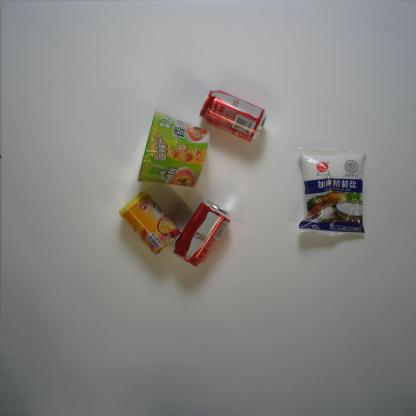Canned Food: (118, 190, 182, 256)
Drink: (172, 200, 232, 267), (199, 89, 268, 143)
Instant Noodles: (136, 108, 210, 188)
Seasoner: (296, 146, 368, 238)
